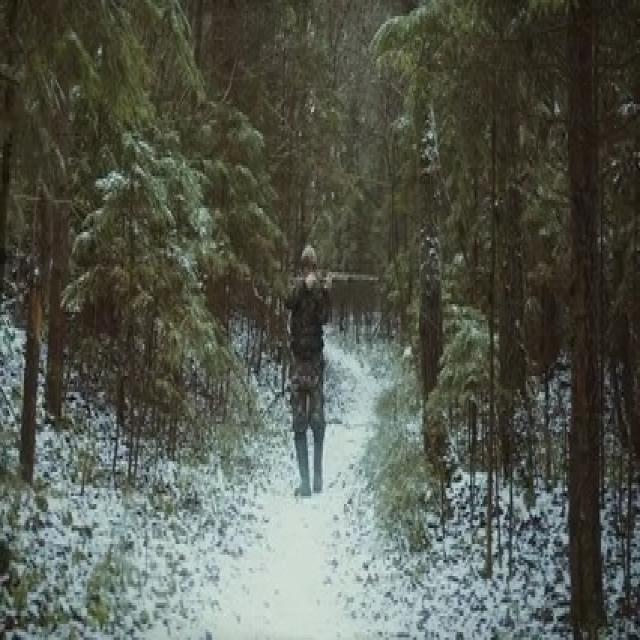Gun_Holder: (296, 270, 384, 296)
Person: (286, 246, 330, 498)
